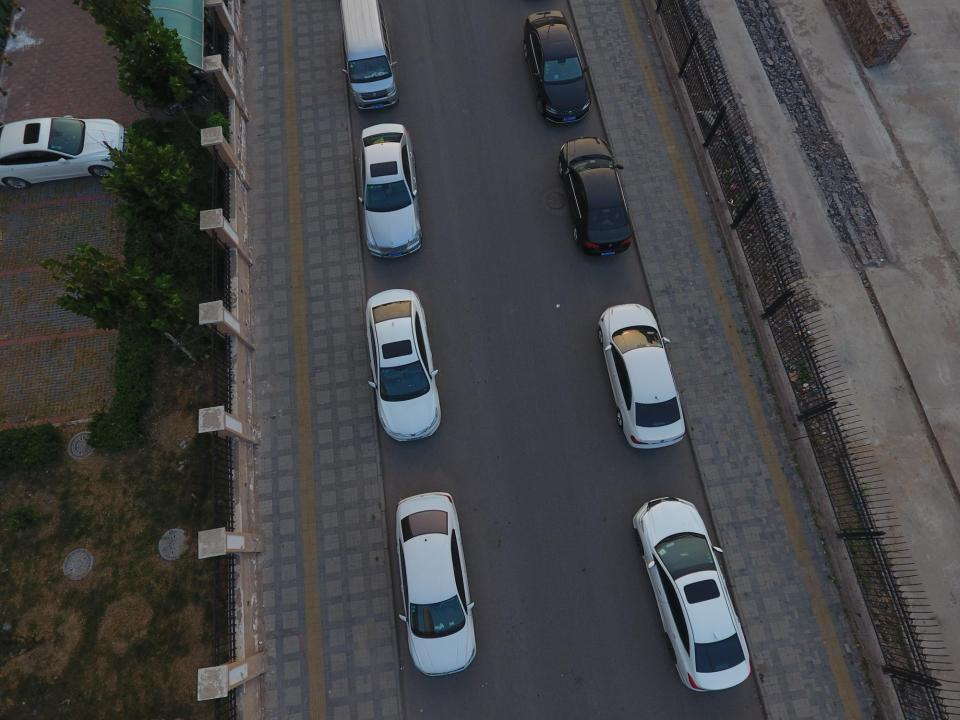car: (633, 496, 752, 692), (395, 492, 477, 676), (599, 303, 685, 448), (366, 289, 441, 442), (0, 115, 126, 188), (357, 124, 423, 258), (558, 137, 632, 255), (524, 10, 590, 124)
van: (340, 0, 398, 113)
